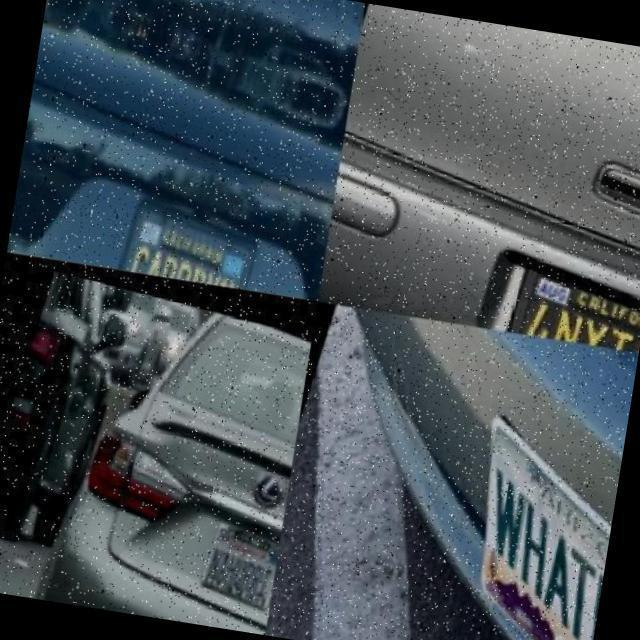License Plate: (481, 410, 613, 640), (118, 195, 266, 293), (507, 250, 640, 352), (202, 504, 286, 600)
